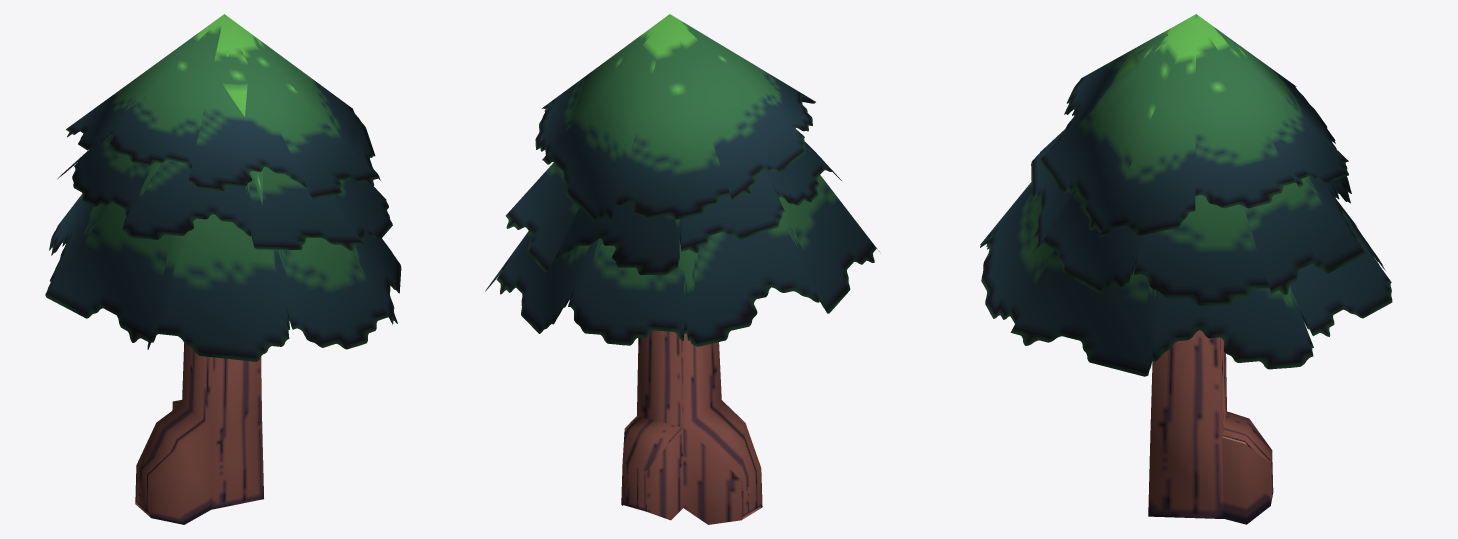
Rendered from Arvore.fbx.
The picture shows the model from 3 angles, left to right: view 1: azimuth 30°, elevation 25°; view 2: azimuth 150°, elevation 25°; view 3: azimuth 270°, elevation 25°; orthographic projection. The views are drawn at different scales.
Parts seen in each view (by area): view 1: Avore; view 2: Avore; view 3: Avore.
Part boxes in pixels (box(x1,y1,x2,y2)): Avore: box(45, 14, 401, 524); Avore: box(485, 14, 879, 524); Avore: box(980, 14, 1392, 524).
Bounding box in the file's own units: 192 × 241 × 220.
